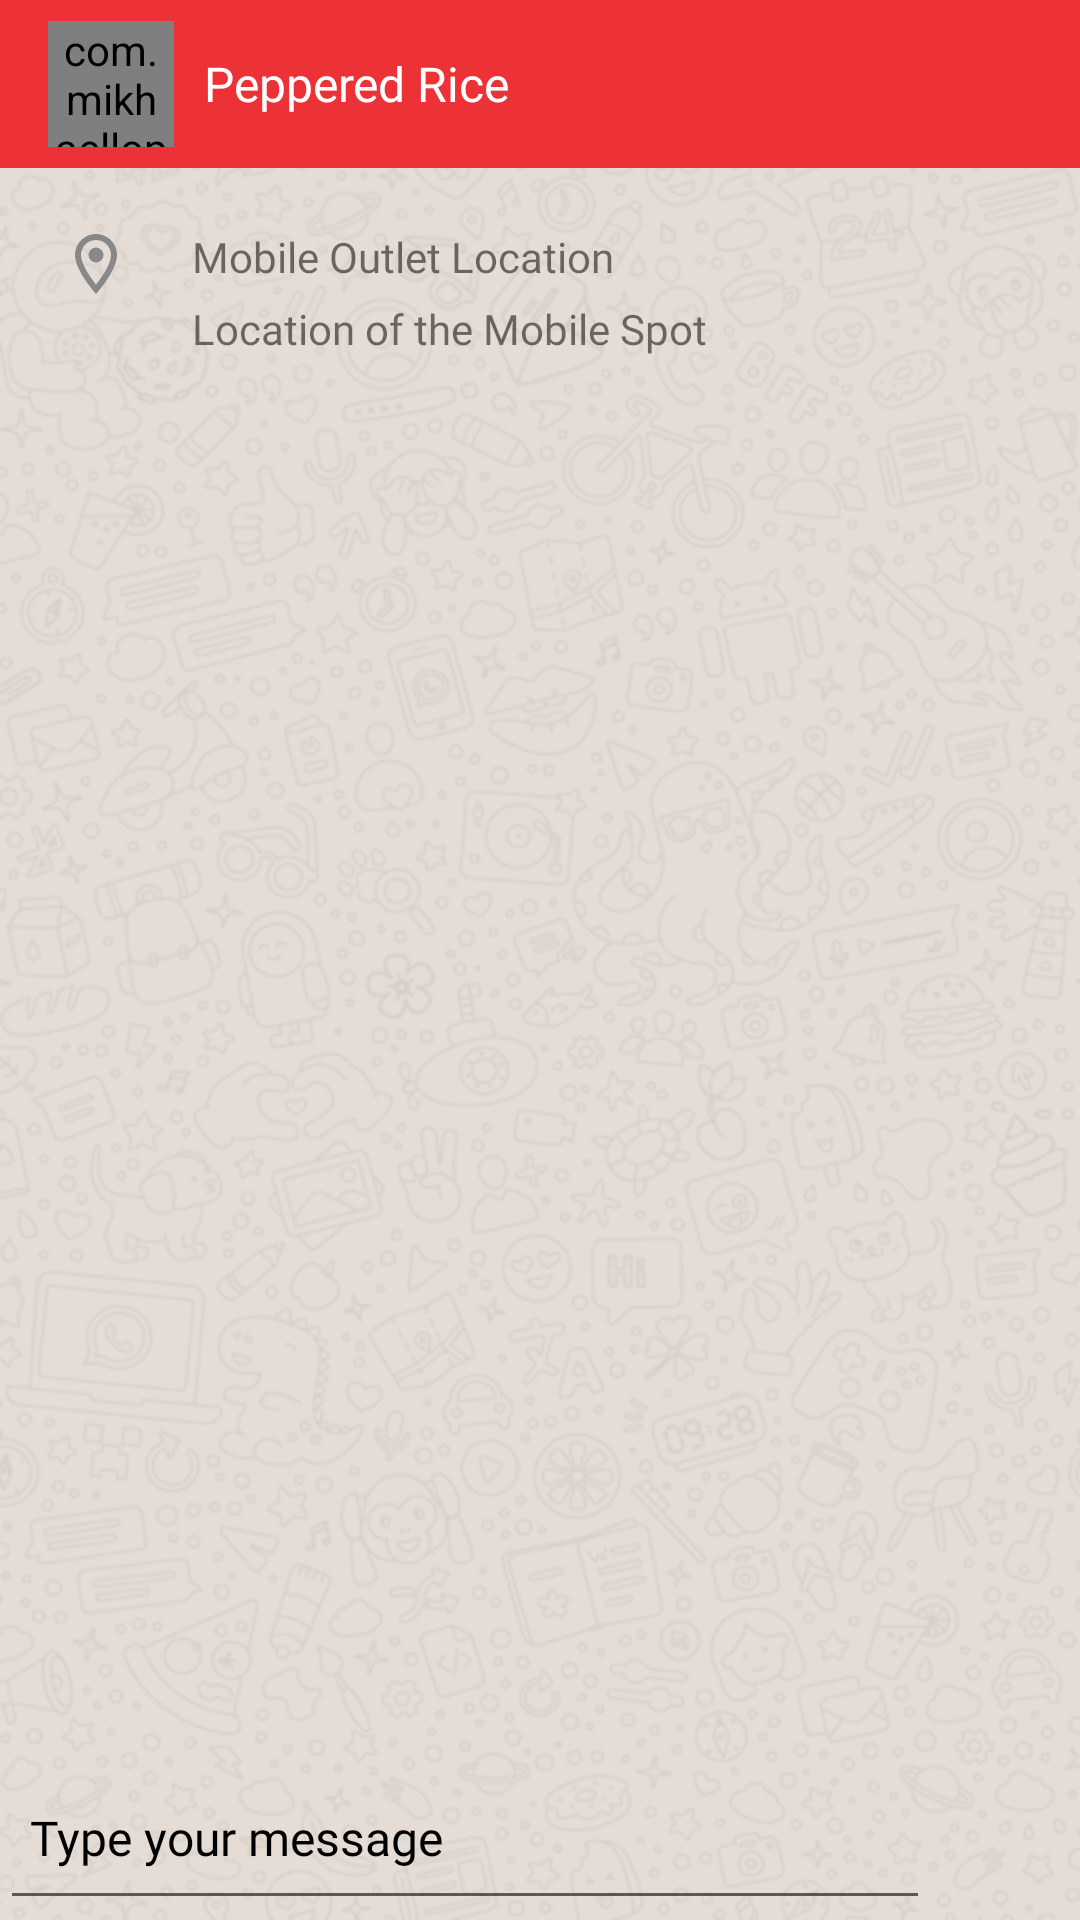

Point at icon controls on the screen. Image size 1080x1920, points as (x,y).
location on: (96,264)
